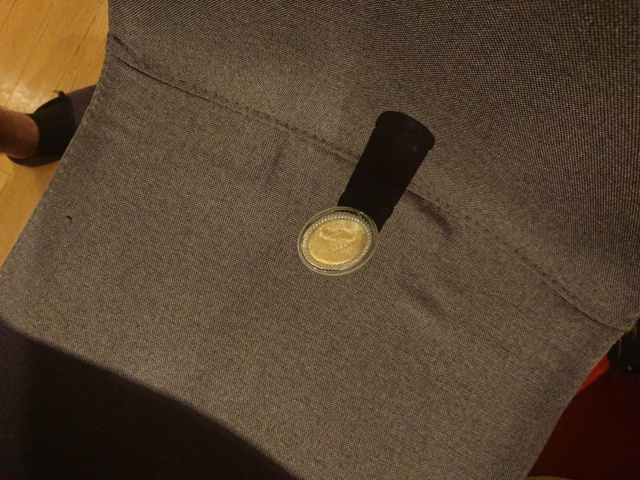Kotanyi Garlic Granules 70g: (295, 204, 381, 278)
